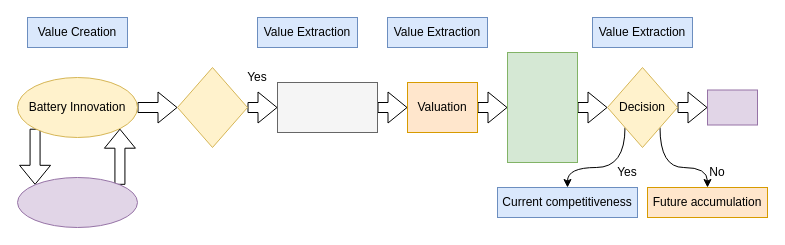
Image size: 785x245. Some labels were removed from this diagram. The shapes that lost their labels are listed below. From the top down, each one's centre as x and y in pixels, then its label:
[212,107]: Should this innovation be protected?
[327,107]: Obtain protection
[542,107]: Price reduction strategy
[732,107]: SELL
[77,202]: R&D of 4680 battery
